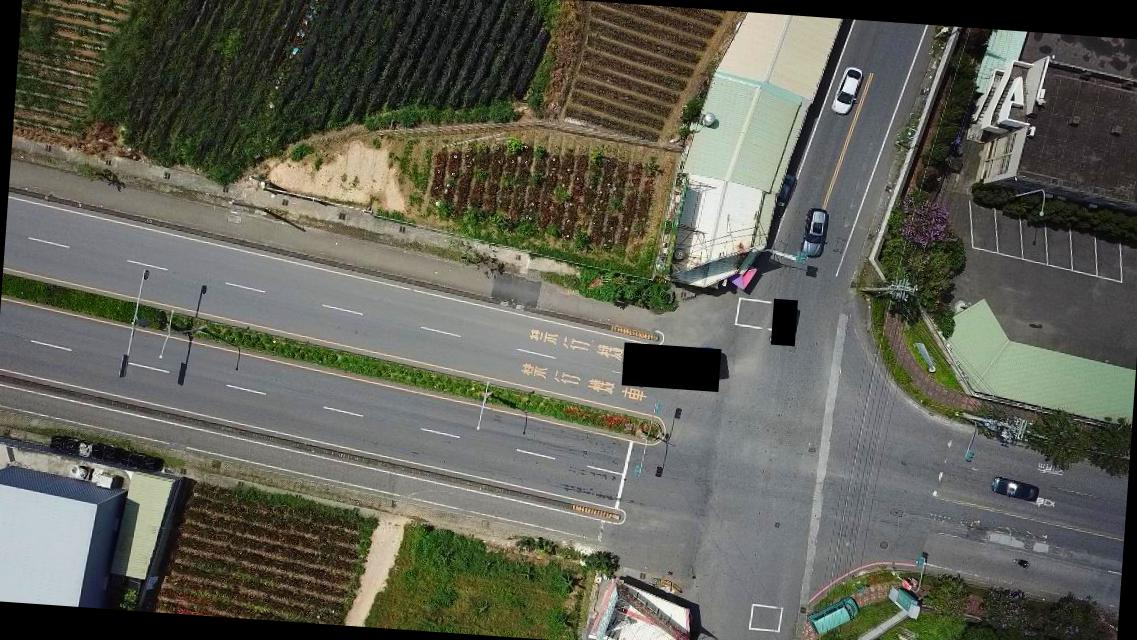vehicle: (807, 594, 864, 638), (829, 64, 862, 117), (986, 474, 1040, 504), (799, 206, 829, 259)
